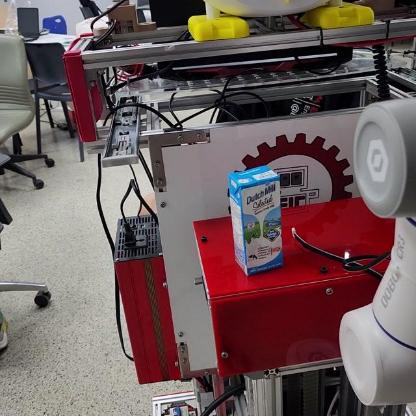Others: (215, 154, 295, 284)
